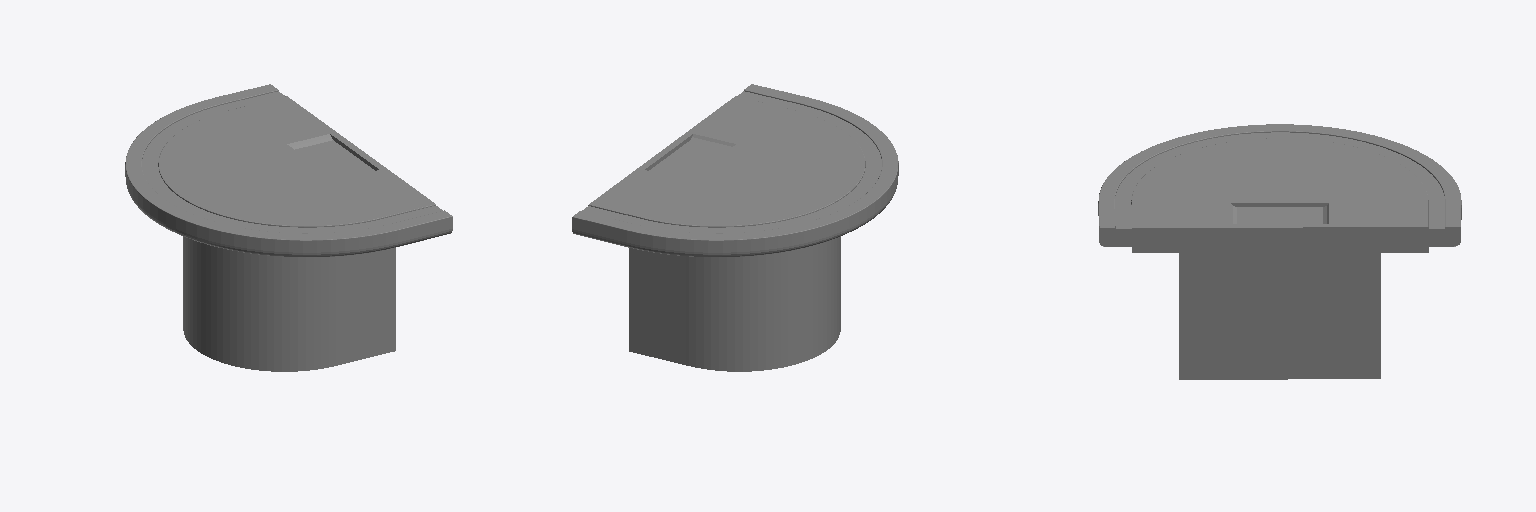
Rendered from blackjack_table_1.obj.
3 renders of one model, left to right at view 1: azimuth 30°, elevation 25°; view 2: azimuth 150°, elevation 25°; view 3: azimuth 270°, elevation 25°, orthographic.
Parts seen in each view (by area): view 1: Cylinder001_Mesh; view 2: Cylinder001_Mesh; view 3: Cylinder001_Mesh.
Part boxes in pixels (bbox=[...]): Cylinder001_Mesh: bbox=[125, 84, 452, 371]; Cylinder001_Mesh: bbox=[572, 84, 898, 371]; Cylinder001_Mesh: bbox=[1098, 124, 1461, 379].
Size of the model in its own units: 1.92 by 1.38 by 2.85.